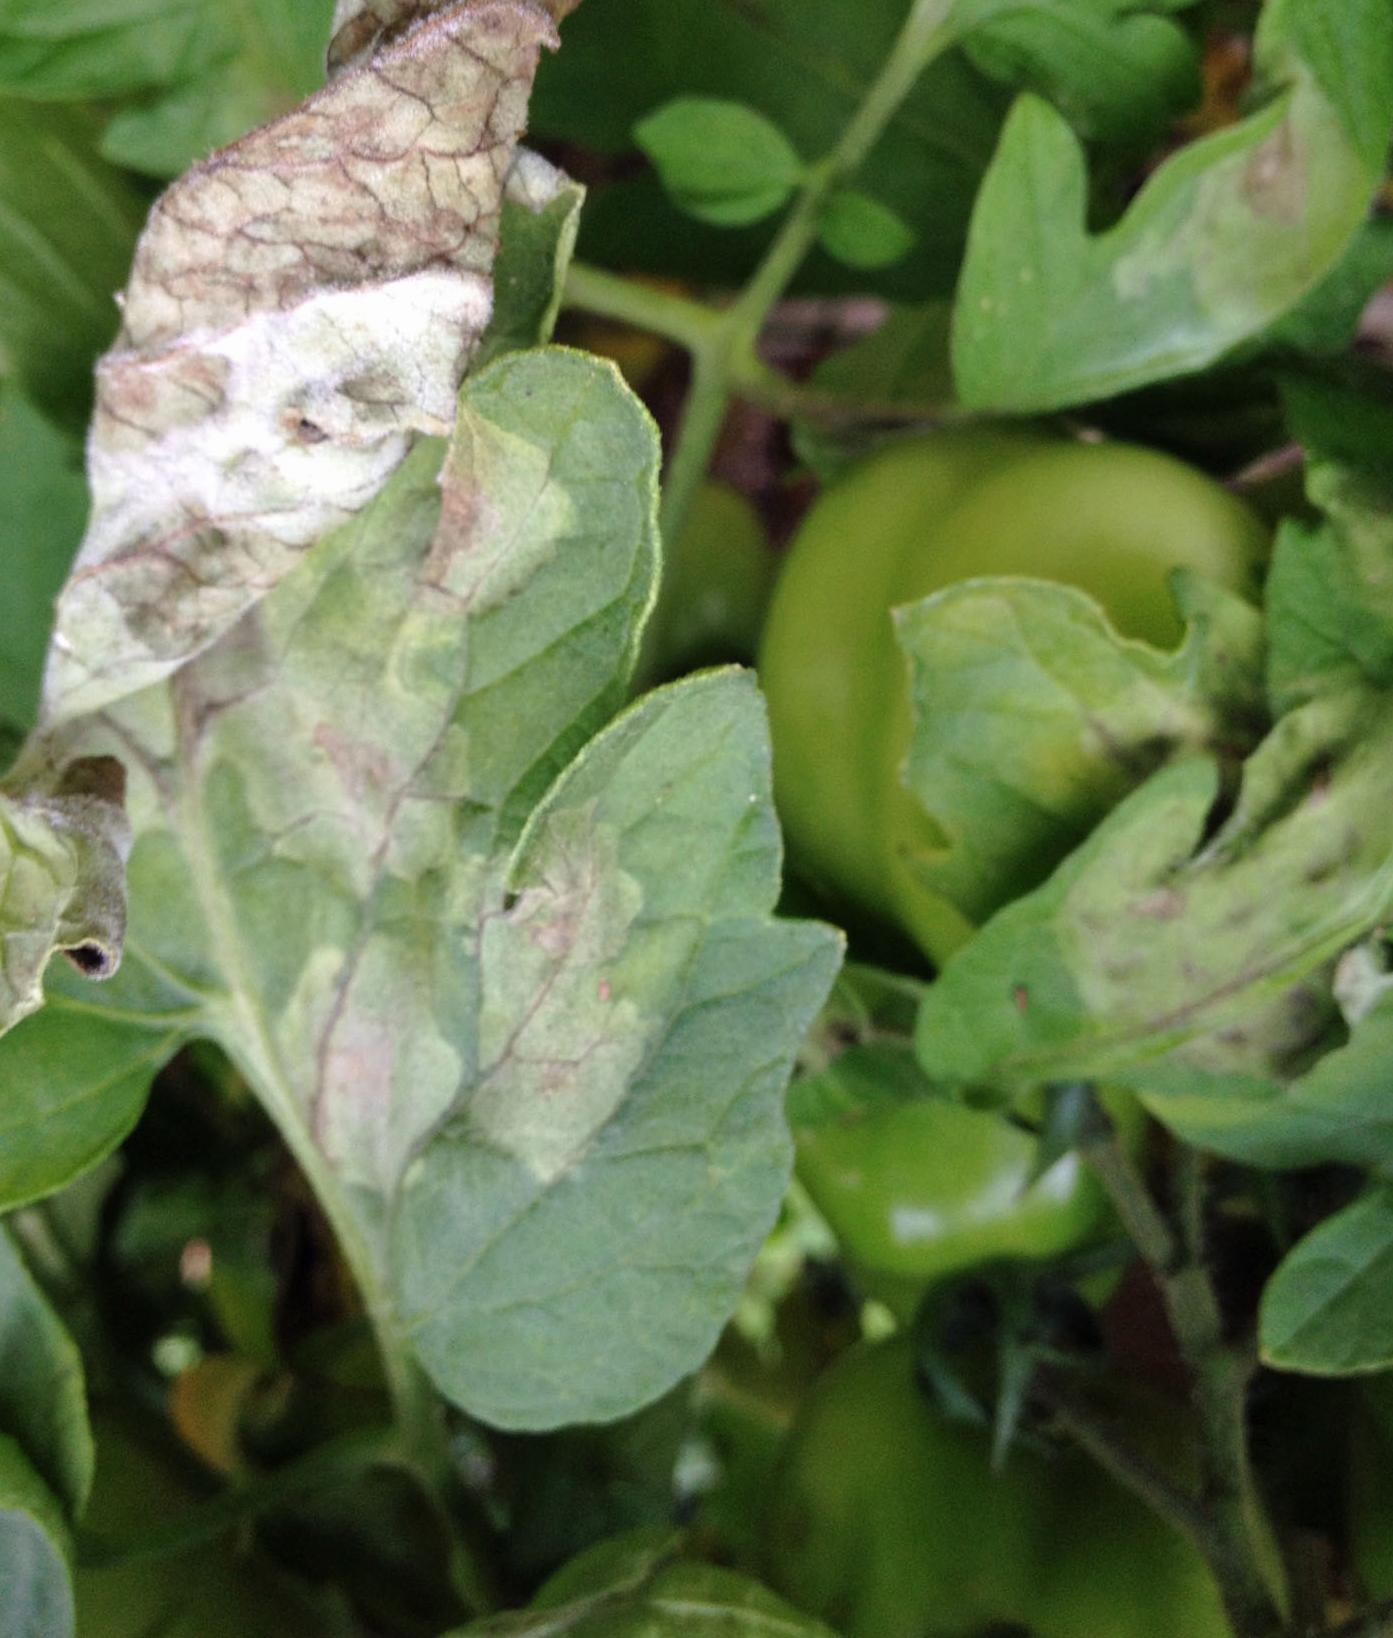Tomato leaf late blight: (187, 318, 687, 1205), (376, 623, 835, 1507), (821, 0, 1393, 482), (918, 633, 1393, 1124)
